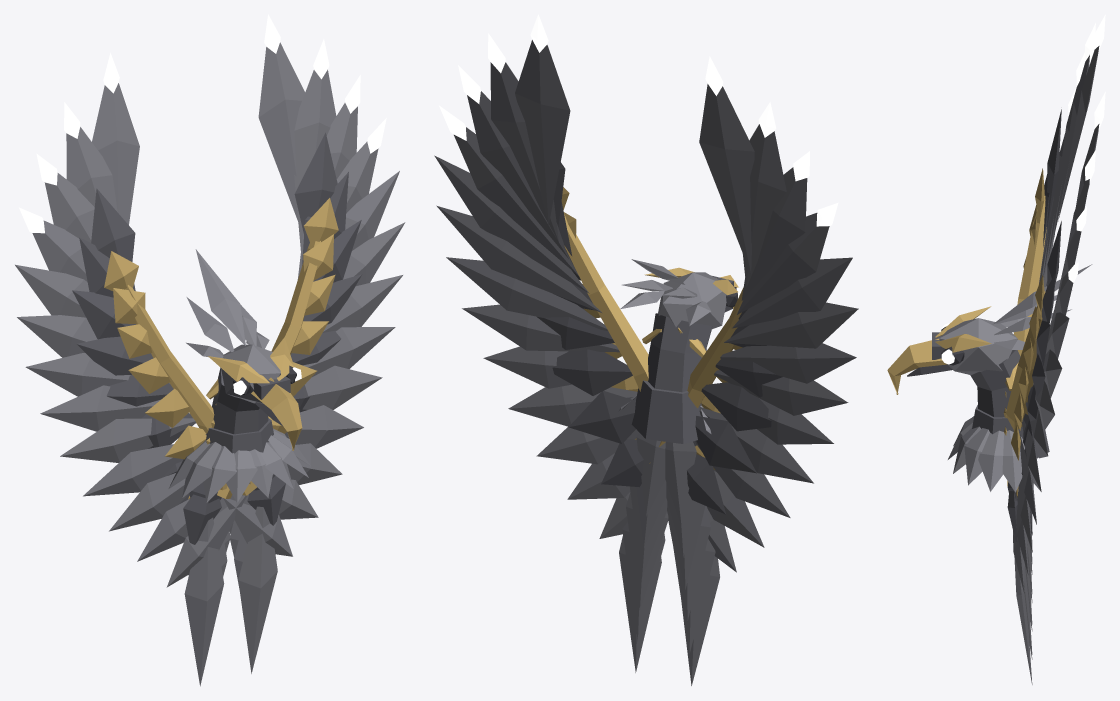
Rendered from hawk-wings-on-shield.glb.
3 renders of one model, left to right at view 1: azimuth 30°, elevation 25°; view 2: azimuth 150°, elevation 25°; view 3: azimuth 270°, elevation 25°, orthographic. The views are drawn at different scales.
Parts seen in each view (by area): view 1: glide_wing_r, glide_wing_l, turn_head, mantle, shut_wing_r, shut_wing_l; view 2: glide_wing_l, glide_wing_r, turn_head, shut_wing_r, shut_wing_l, mantle; view 3: glide_wing_l, turn_head, glide_wing_r, mantle, shut_wing_l.
Part boxes in pixels (left/top/right/bottom): glide_wing_r: left=15, top=52, right=256, bottom=587; glide_wing_l: left=217, top=14, right=405, bottom=556; turn_head: left=186, top=249, right=302, bottom=450; mantle: left=168, top=418, right=310, bottom=502; shut_wing_r: left=183, top=379, right=252, bottom=686; shut_wing_l: left=220, top=474, right=285, bottom=673; glide_wing_l: left=434, top=14, right=648, bottom=538; glide_wing_r: left=649, top=56, right=858, bottom=572; turn_head: left=620, top=259, right=742, bottom=392; shut_wing_r: left=665, top=327, right=719, bottom=685; shut_wing_l: left=619, top=329, right=668, bottom=672; mantle: left=618, top=380, right=712, bottom=443; glide_wing_l: left=1006, top=91, right=1105, bottom=592; turn_head: left=887, top=264, right=1092, bottom=417; glide_wing_r: left=1007, top=14, right=1105, bottom=486; mantle: left=948, top=405, right=1049, bottom=492; shut_wing_l: left=1003, top=362, right=1032, bottom=684.
Size of the model in its own units: 0.8346 by 1.27 by 0.4047.
